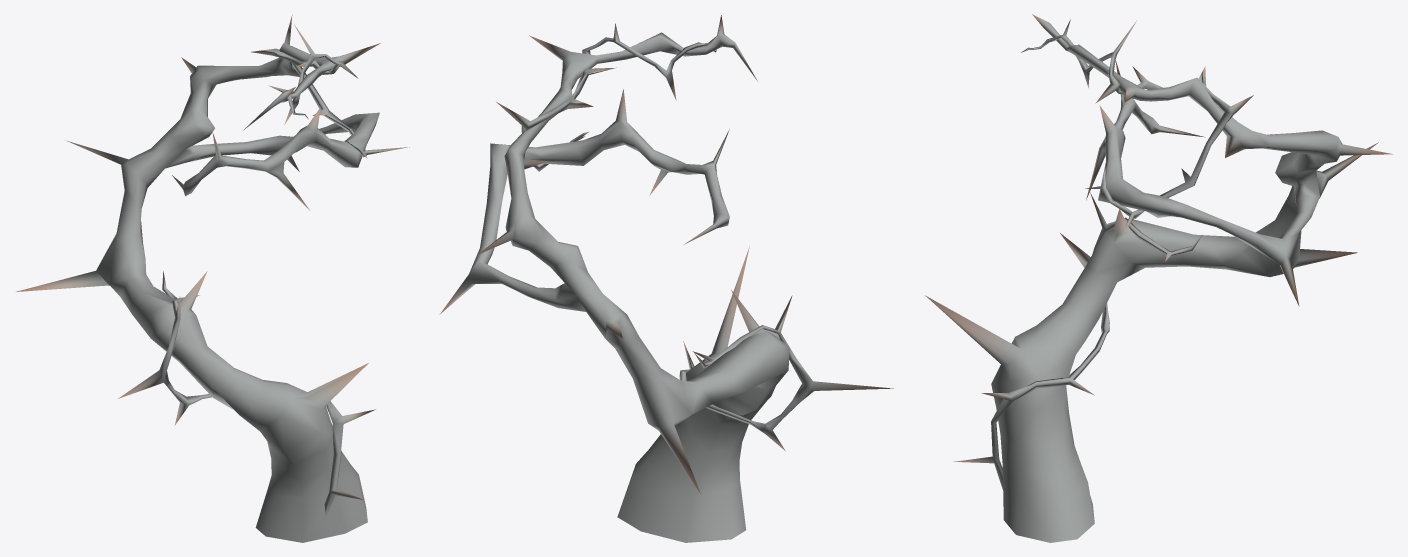
3 views of the same model, side by side, from view 1: azimuth 30°, elevation 25°; view 2: azimuth 150°, elevation 25°; view 3: azimuth 270°, elevation 25° (orthographic). The views are drawn at different scales.
Parts seen in each view (by area): view 1: G:\FFXIV-MapTools\exports\f1f2\bg\ffxiv\fst_f1\fld\f1f2\bgpa (×2); view 2: G:\FFXIV-MapTools\exports\f1f2\bg\ffxiv\fst_f1\fld\f1f2\bgpa (×2); view 3: G:\FFXIV-MapTools\exports\f1f2\bg\ffxiv\fst_f1\fld\f1f2\bgpa (×2).
Boxes of the visible parts, x1=… form: G:\FFXIV-MapTools\exports\f1f2\bg\ffxiv\fst_f1\fld\f1f2\bgpa (×2): x1=16, y1=15, x2=409, y2=542; G:\FFXIV-MapTools\exports\f1f2\bg\ffxiv\fst_f1\fld\f1f2\bgpa (×2): x1=439, y1=15, x2=893, y2=542; G:\FFXIV-MapTools\exports\f1f2\bg\ffxiv\fst_f1\fld\f1f2\bgpa (×2): x1=925, y1=14, x2=1392, y2=542.
Size of the model in its own units: 19.73 by 27.24 by 22.83.
